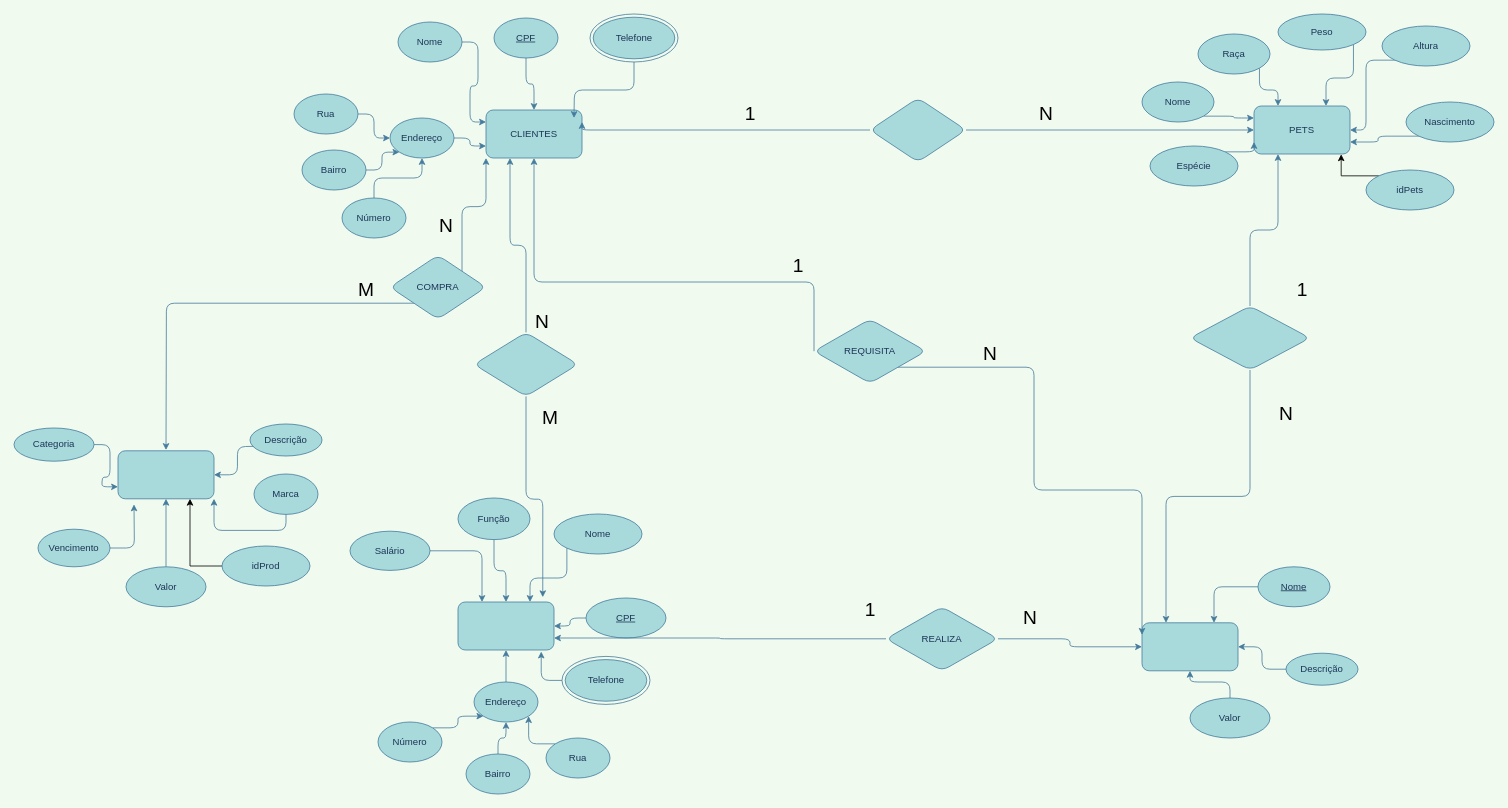
Some shapes in this 1508 by 808 pixel diagram are drawn without their labels. The box of each missing label's shape, as (x1, y1, x2, y2) in pixels:
APLICAR: (1189, 305, 1310, 370)
ATENDE: (473, 332, 578, 396)
FUNCIONÁRIOS: (457, 601, 554, 650)
POSSUI: (869, 97, 966, 162)
PRODUTOS: (117, 450, 214, 499)
SERVIÇOS: (1141, 622, 1238, 671)
